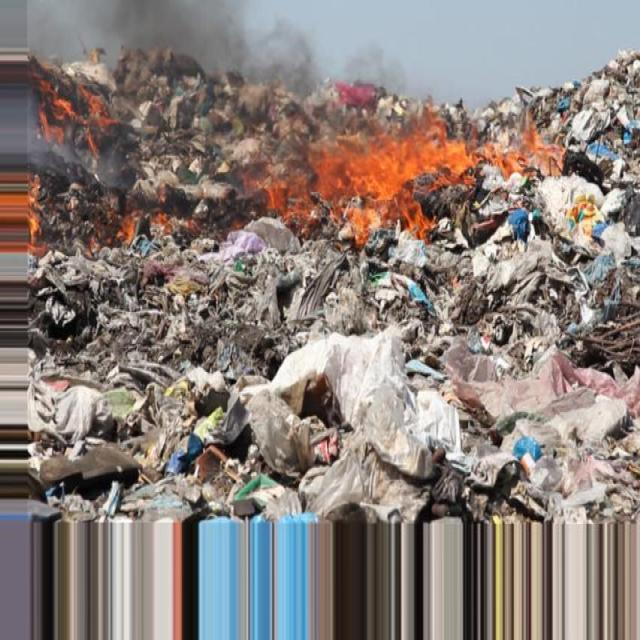fire: (261, 102, 456, 238), (460, 112, 574, 184), (34, 65, 110, 160), (94, 188, 202, 239)
